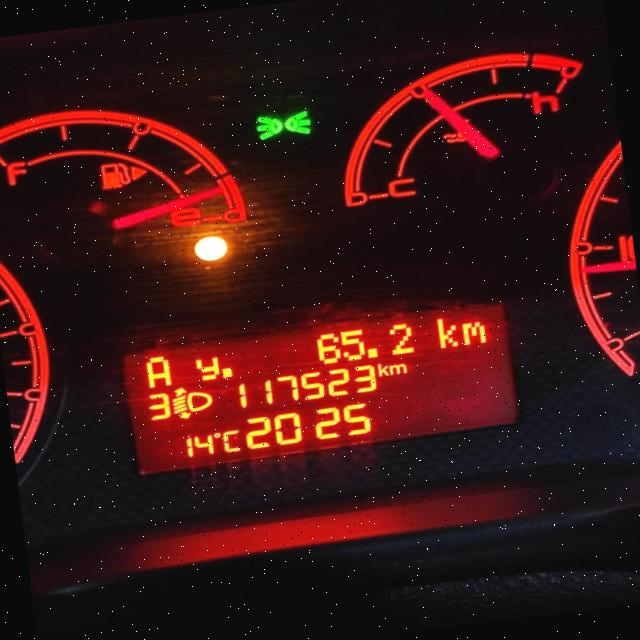odometer: (114, 293, 525, 478)
